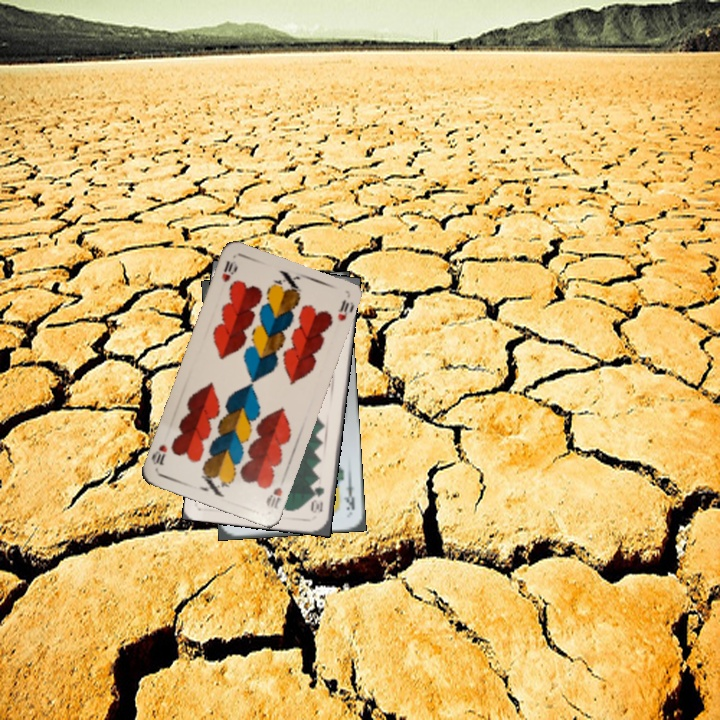EK: (340, 475, 357, 513)
G10: (308, 482, 327, 516)
H10: (262, 483, 285, 511), (218, 257, 240, 285)
